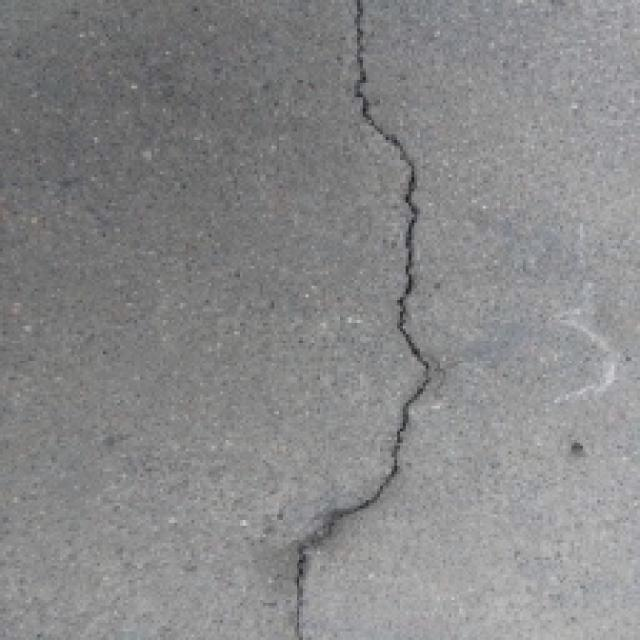SurfaceCrack: (270, 0, 462, 640)
